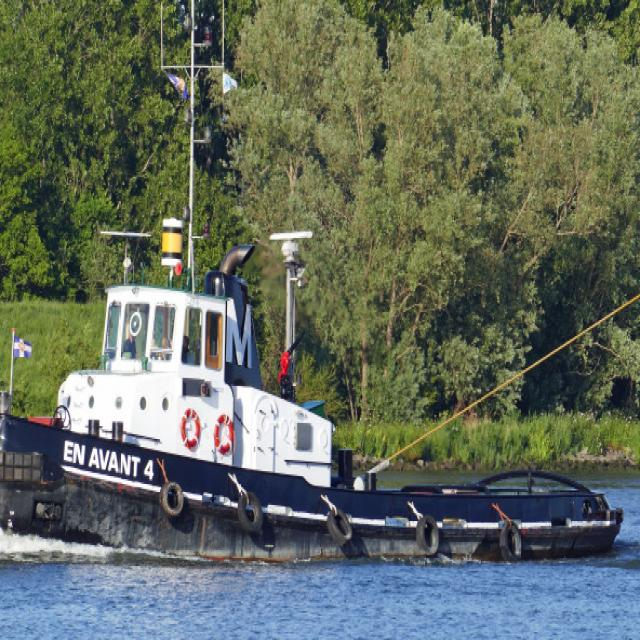tugboat: (1, 1, 627, 577)
